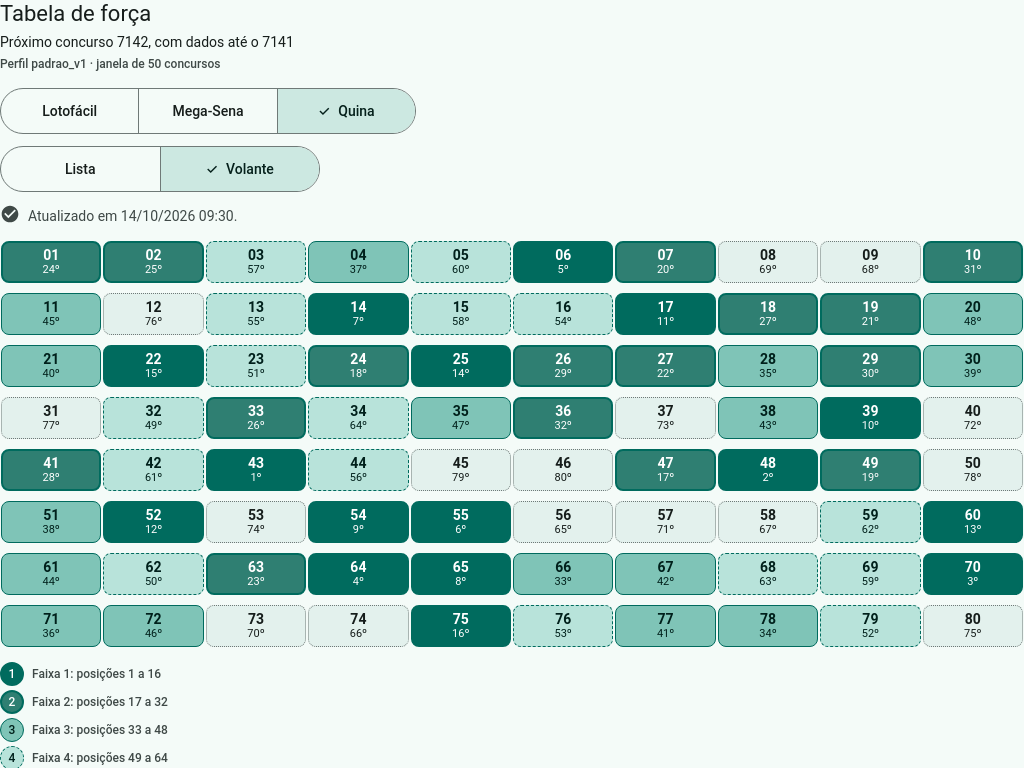
Test: detalhe da dezena a partir do volante › toque numa célula abre o detalhe da mesma dezena/posição que a lista mostra
This screenshot has width=1024, height=768.
Click the button with class "celula" showing "55 6º" at (461, 522), box [410,500,512,544]
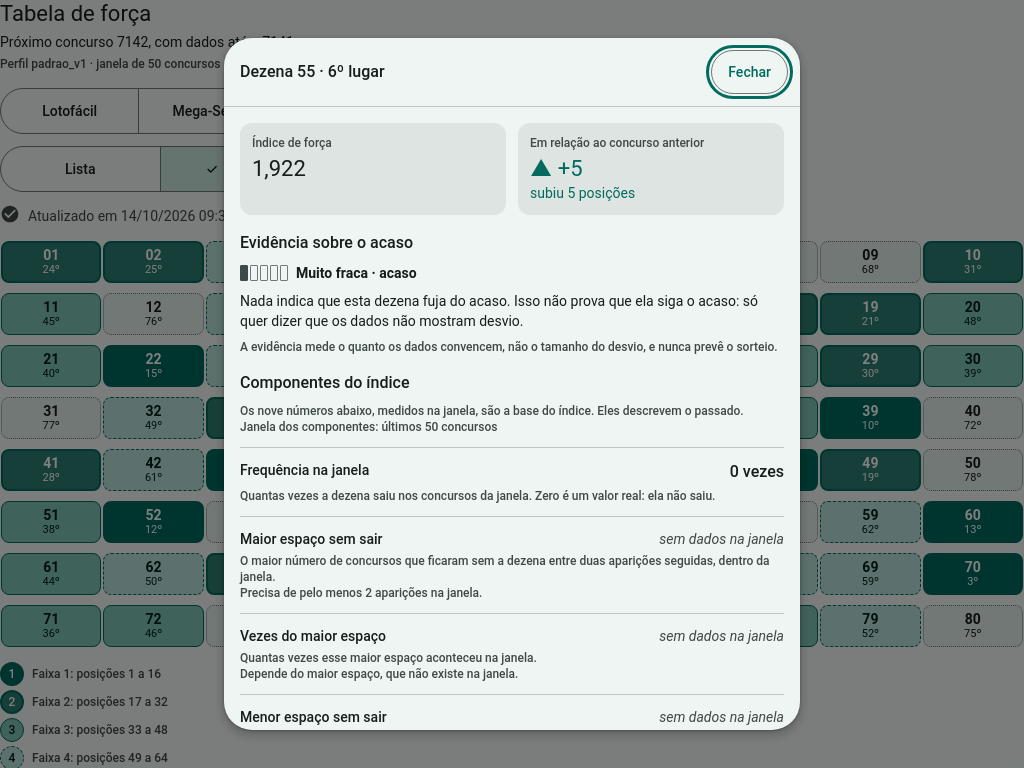
Now the dialog is shown, box [224,38,800,730]
Now the heading "Dezena 55 · 6º lugar" is shown, box [240,60,384,84]
